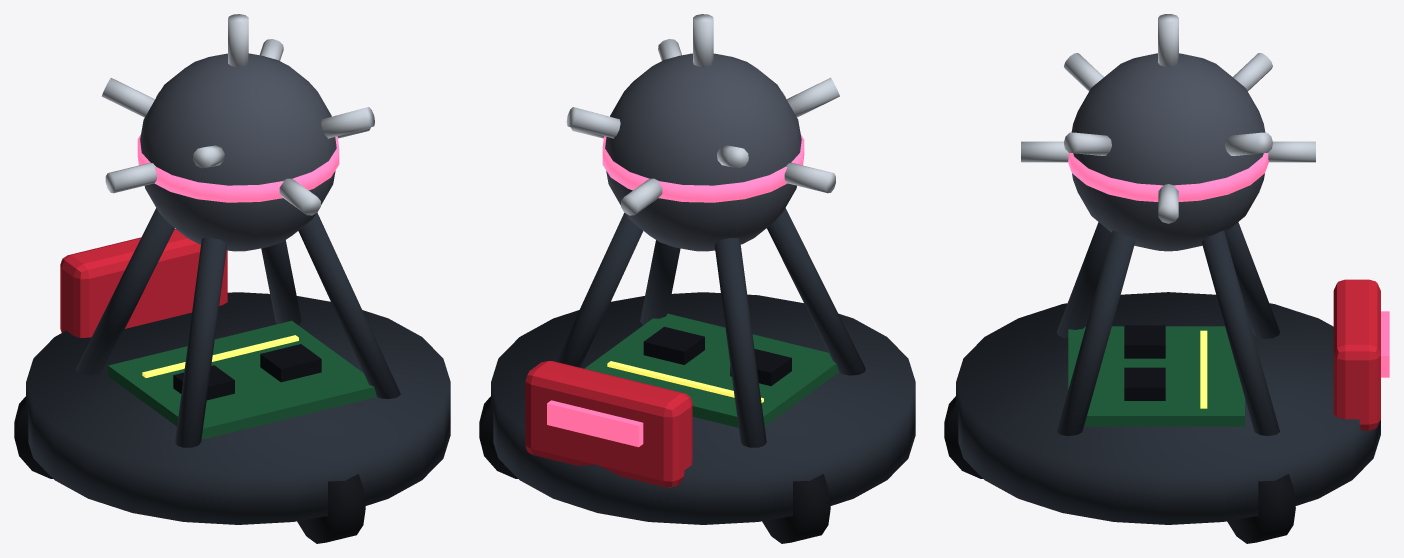
The model's file is Bomber.fbx.
3 views of the same model, side by side, from view 1: azimuth 30°, elevation 25°; view 2: azimuth 150°, elevation 25°; view 3: azimuth 270°, elevation 25° (orthographic).
Parts seen in each view (by area): view 1: Metal_Base0, Bomb_Mine0, Pcb_Board0.001, Shell_Front0, Metal_Strut2, Metal_Strut1, Metal_Strut3, BombGlow_Band0, Tread_Wheel1, Metal_Strut0, Chip_Chip1.001, Silver_Spike7 (+8 smaller); view 2: Metal_Base0, Bomb_Mine0, Shell_Front0, Pcb_Board0.001, Metal_Strut3, Metal_Strut2, Metal_Strut0, BombGlow_Band0, Tread_Wheel2, Eye_Visor0.001, Metal_Strut1, Chip_Chip1.001 (+9 smaller); view 3: Metal_Base0, Bomb_Mine0, Pcb_Board0.001, Shell_Front0, Metal_Strut1, Metal_Strut0, BombGlow_Band0, Tread_Wheel0, Metal_Strut3, Metal_Strut2, Chip_Chip0.001, Chip_Chip1.001 (+11 smaller).
Boxes of the visible parts, x1=… form: Metal_Base0: x1=26, y1=292, x2=450, y2=524; Bomb_Mine0: x1=140, y1=53, x2=336, y2=251; Pcb_Board0.001: x1=108, y1=320, x2=376, y2=439; Shell_Front0: x1=60, y1=229, x2=227, y2=337; Metal_Strut2: x1=175, y1=237, x2=226, y2=447; Metal_Strut1: x1=298, y1=212, x2=400, y2=398; Metal_Strut3: x1=76, y1=208, x2=174, y2=375; BombGlow_Band0: x1=137, y1=134, x2=339, y2=202; Tread_Wheel1: x1=297, y1=474, x2=365, y2=543; Metal_Strut0: x1=261, y1=240, x2=301, y2=325; Chip_Chip1.001: x1=260, y1=344, x2=321, y2=382; Silver_Spike7: x1=321, y1=107, x2=374, y2=138; Metal_Base0: x1=491, y1=292, x2=915, y2=524; Bomb_Mine0: x1=605, y1=53, x2=801, y2=251; Shell_Front0: x1=525, y1=361, x2=692, y2=487; Pcb_Board0.001: x1=584, y1=313, x2=838, y2=427; Metal_Strut3: x1=714, y1=237, x2=766, y2=447; Metal_Strut2: x1=767, y1=208, x2=865, y2=375; Metal_Strut0: x1=556, y1=212, x2=643, y2=367; BombGlow_Band0: x1=602, y1=134, x2=804, y2=202; Tread_Wheel2: x1=762, y1=474, x2=830, y2=543; Eye_Visor0.001: x1=547, y1=400, x2=643, y2=447; Metal_Strut1: x1=640, y1=240, x2=680, y2=324; Chip_Chip1.001: x1=643, y1=326, x2=704, y2=364; Metal_Base0: x1=956, y1=292, x2=1380, y2=524; Bomb_Mine0: x1=1071, y1=53, x2=1265, y2=251; Pcb_Board0.001: x1=1068, y1=326, x2=1244, y2=426; Shell_Front0: x1=1333, y1=279, x2=1380, y2=430; Metal_Strut1: x1=1057, y1=230, x2=1134, y2=435; Metal_Strut0: x1=1202, y1=230, x2=1279, y2=435; BombGlow_Band0: x1=1068, y1=132, x2=1268, y2=201; Tread_Wheel0: x1=1227, y1=474, x2=1295, y2=543; Metal_Strut3: x1=1225, y1=222, x2=1279, y2=338; Metal_Strut2: x1=1057, y1=222, x2=1111, y2=338; Chip_Chip0.001: x1=1124, y1=325, x2=1165, y2=358; Chip_Chip1.001: x1=1124, y1=367, x2=1165, y2=400.
Size of the model in its own units: 0.72 by 0.755 by 0.848.
